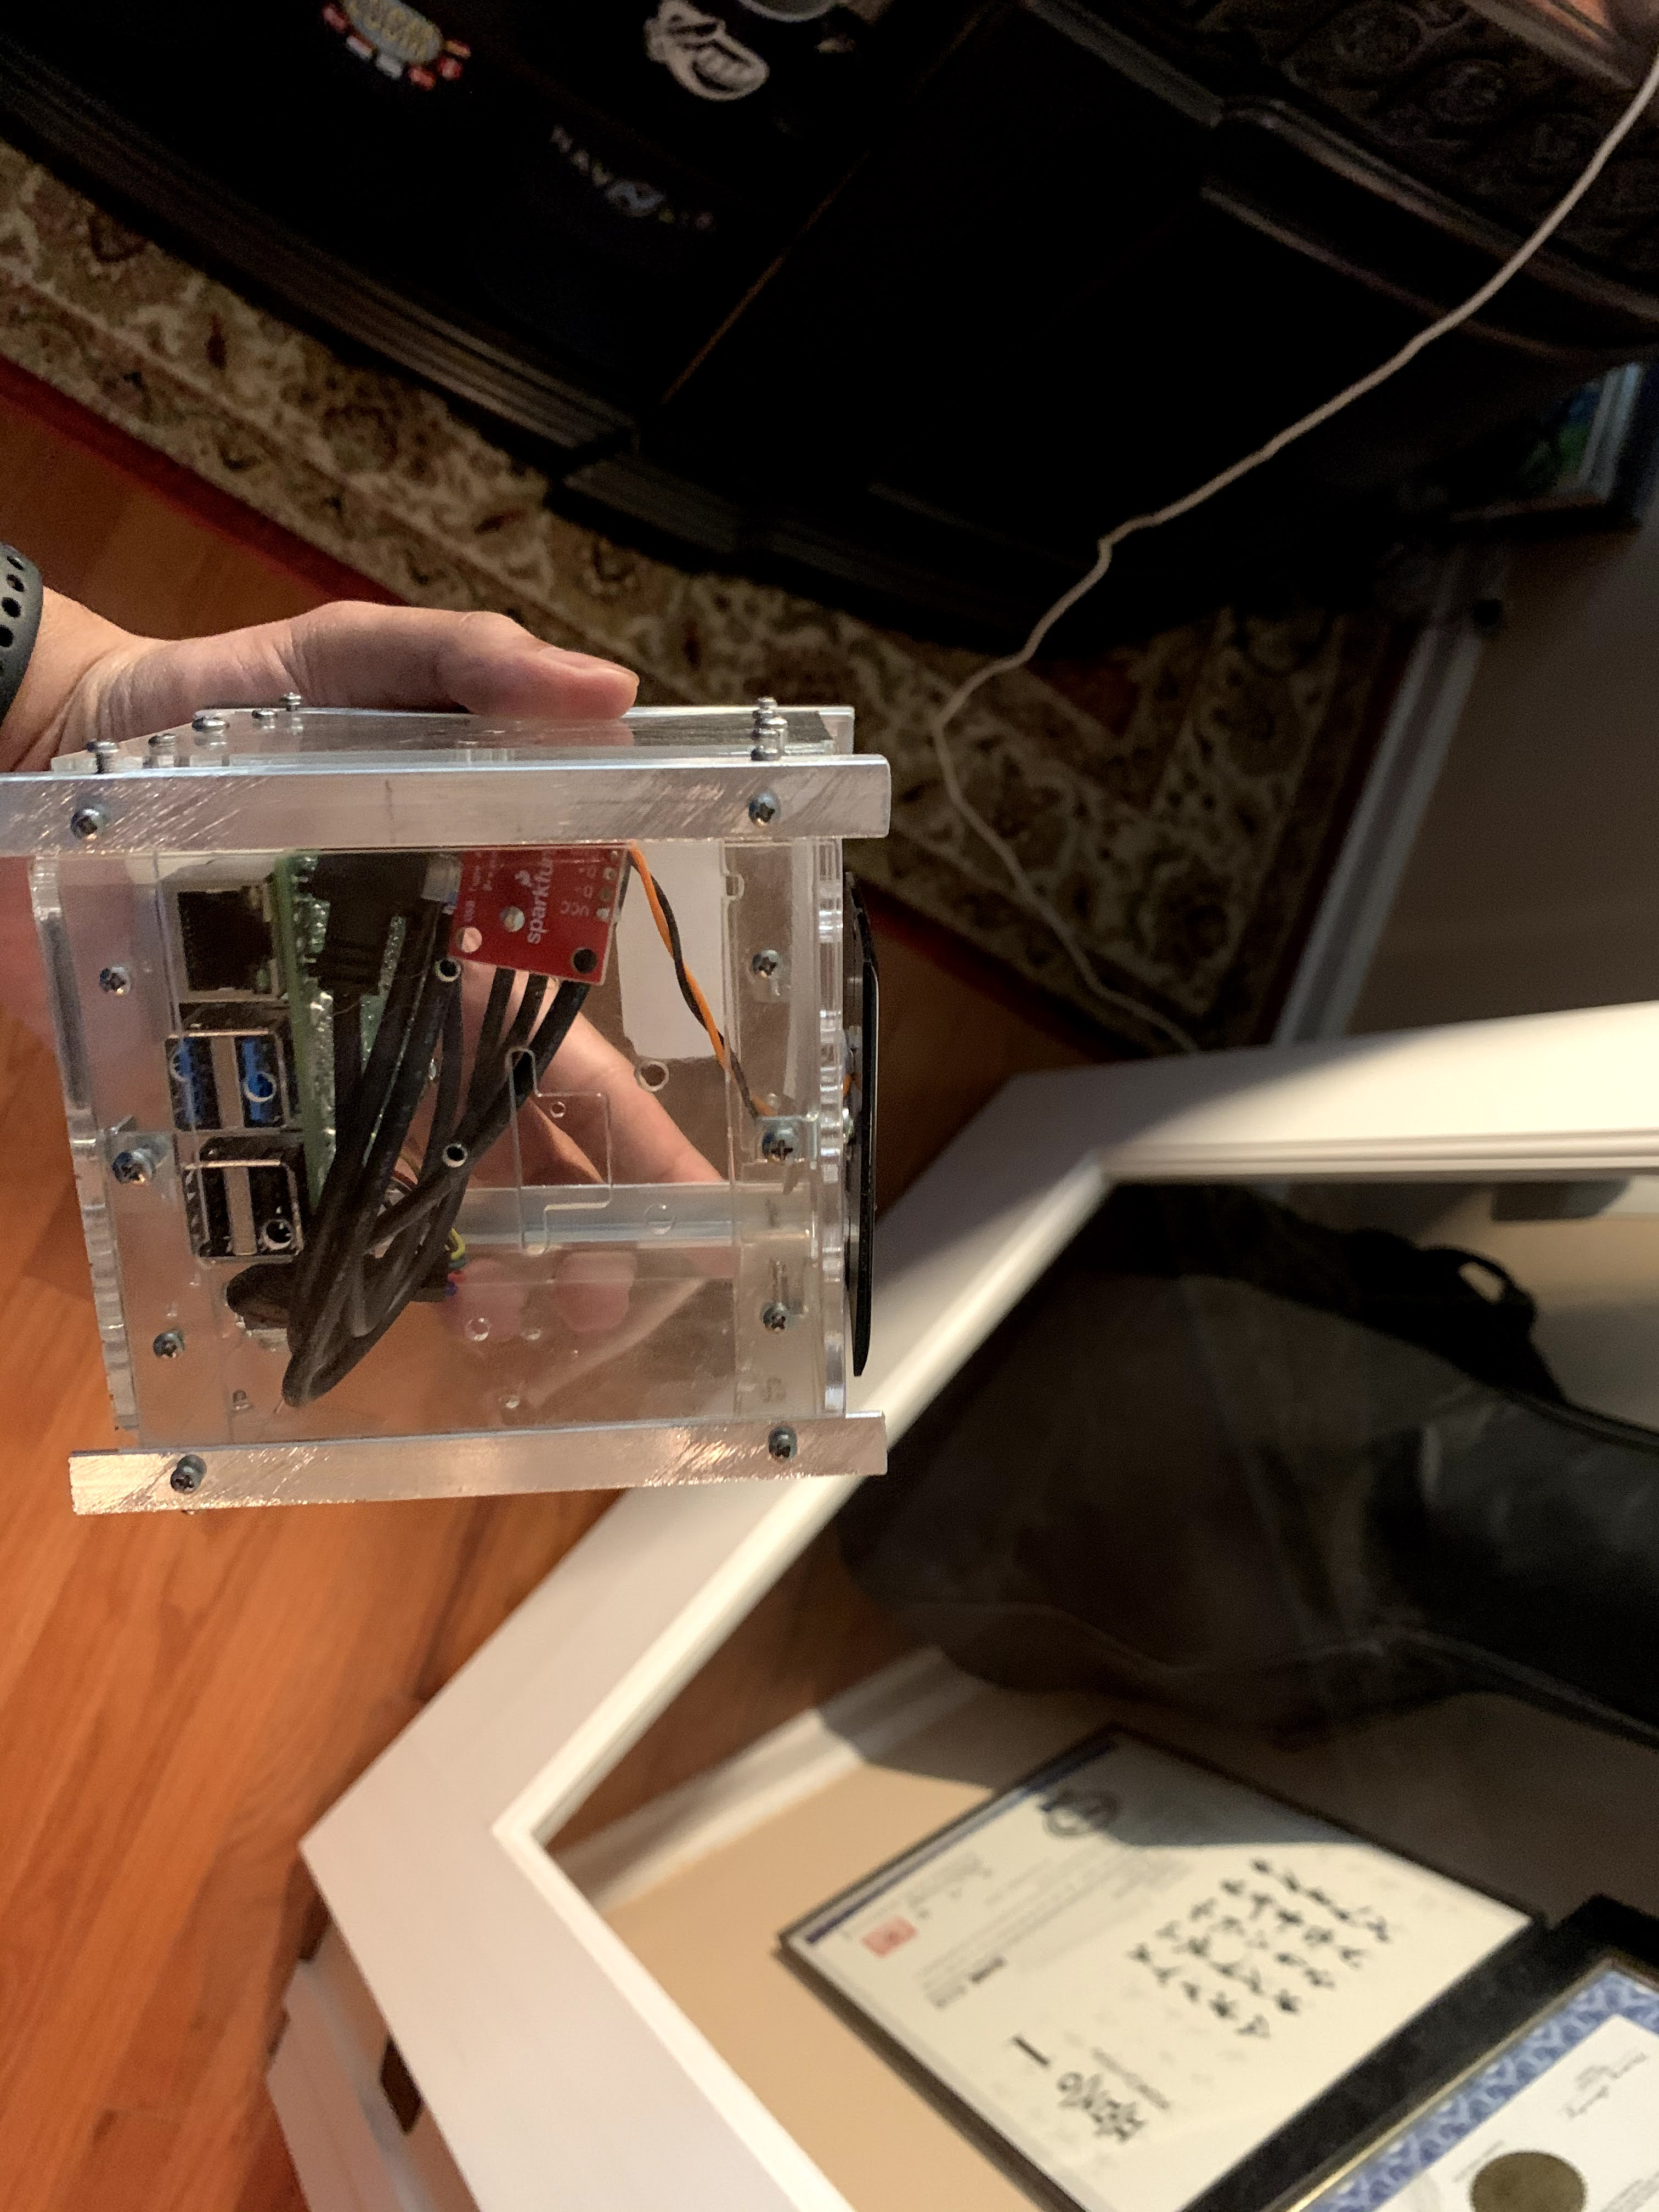Space-debris-cubesat: (3, 686, 969, 1533)
